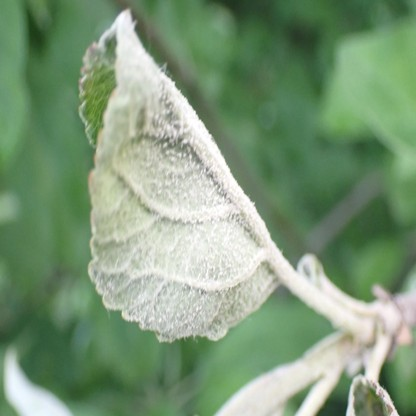powder: (79, 7, 284, 341), (347, 374, 398, 416)
